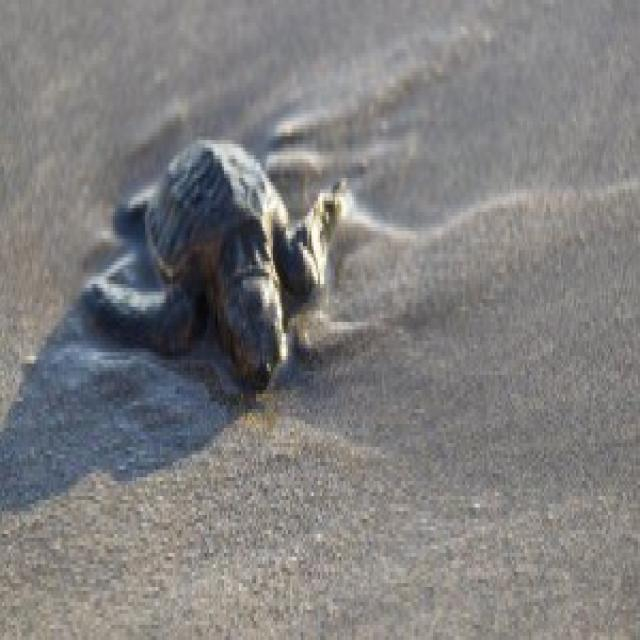Sea turtle: (73, 121, 364, 402)
